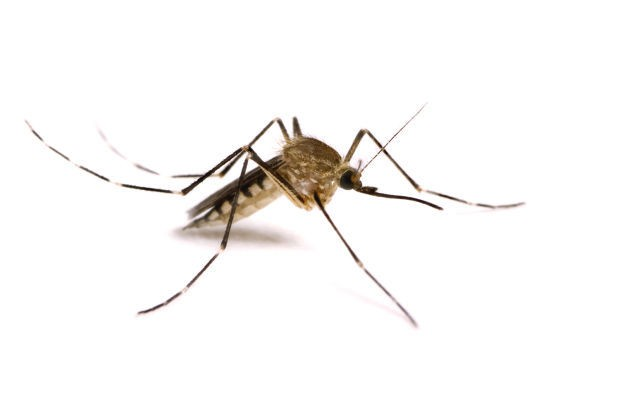mosquito: (17, 93, 541, 333)
